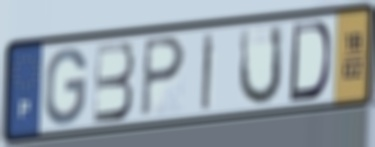B: (91, 38, 136, 126)
D: (286, 19, 333, 105)
G: (42, 45, 89, 128)
I: (199, 30, 216, 113)
P: (140, 35, 187, 121)
U: (236, 22, 285, 109)
